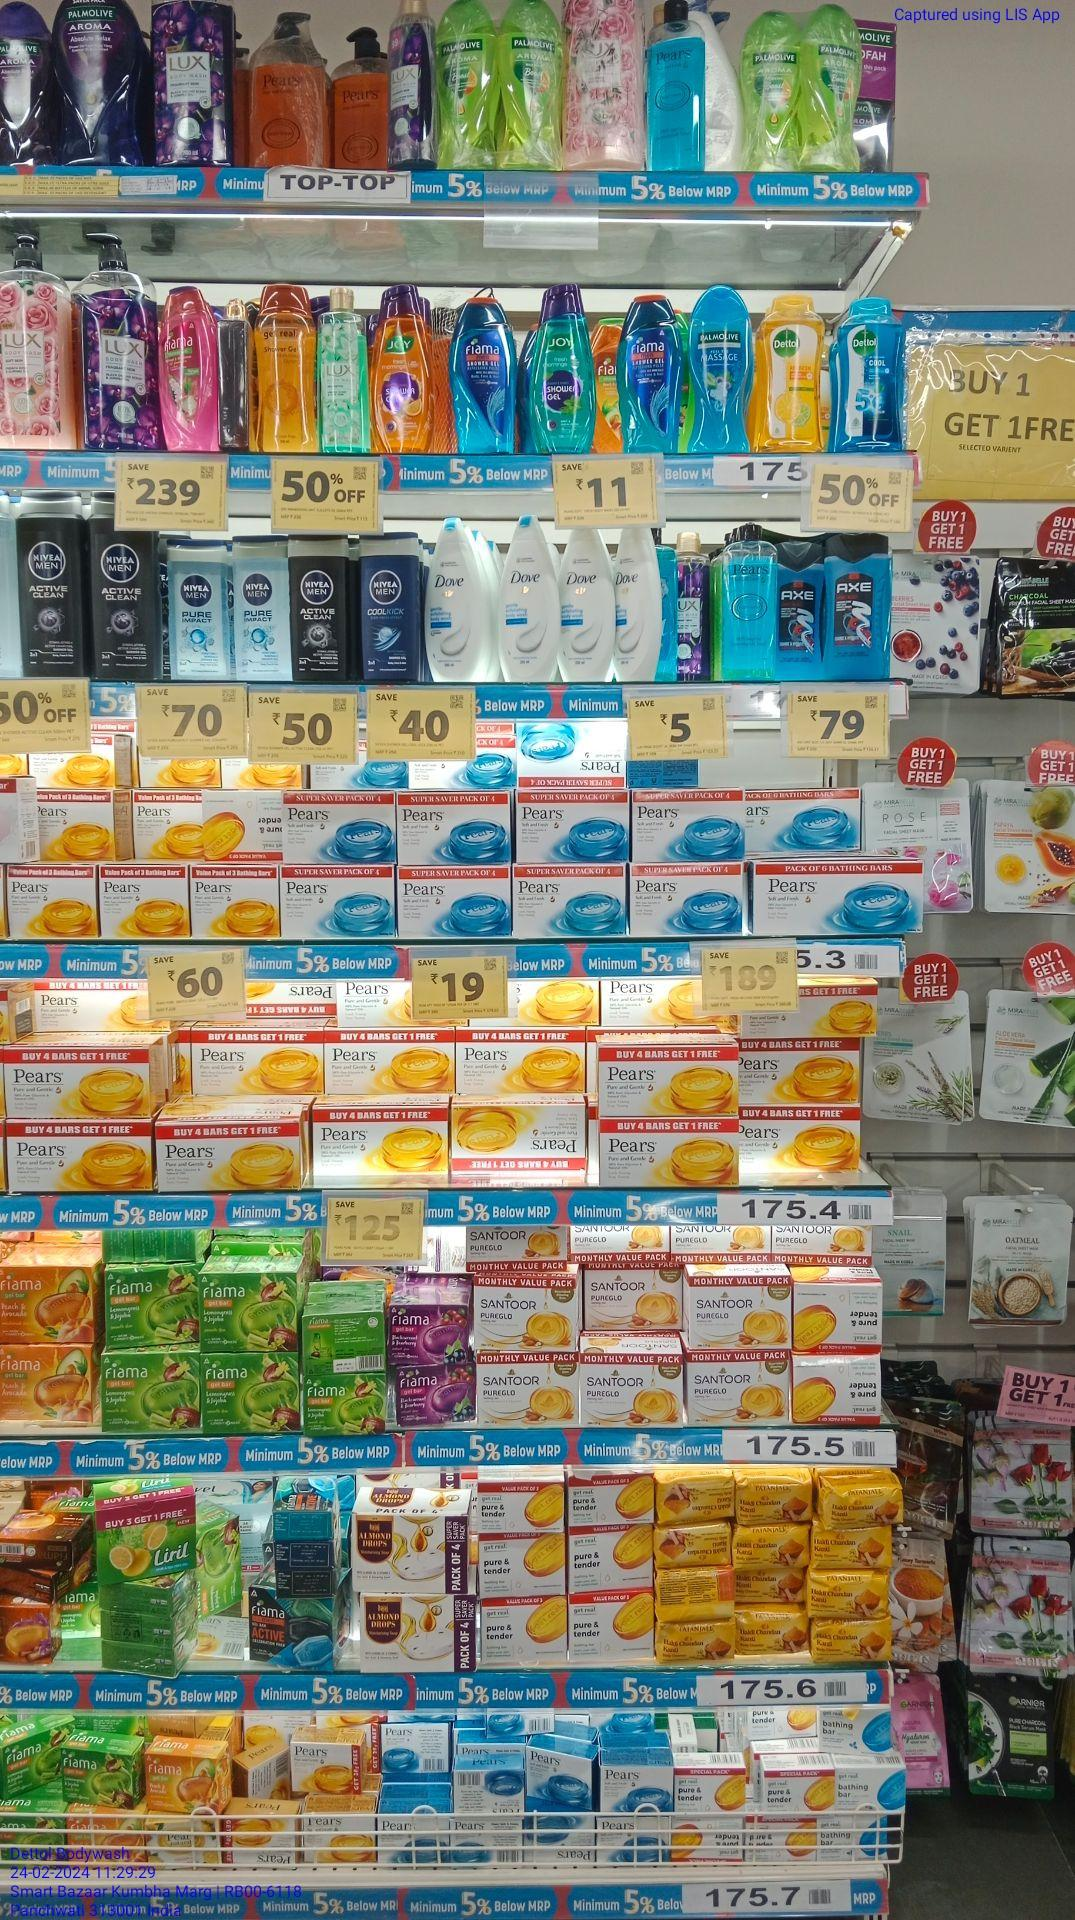Dettol_Bodywash_Cool: (832, 299, 902, 450)
Dettol_Bodywash_Refresh: (754, 301, 824, 452)
Dove_Gentle_Exfoliating_Body_Wash_250ML: (425, 518, 489, 684), (496, 521, 559, 682), (562, 521, 616, 680)
Fiama_Shower_Gel_Patchouli_and_Macadamia_250ML: (157, 289, 220, 455)
Get_Real_Shower_Gel_Moisturising_Glycerin_300ML: (256, 286, 319, 455)
Joy_Shower_Gel_Mandarin_and_Lemongrass_250ML: (377, 287, 434, 452)
Joy_Shower_Gel_Mint_and_Eucalyptus_250ML: (532, 287, 596, 454)
Lux_Black_Orchid_Scent_and_Juniper_Oil_Body_Wash_245ML: (681, 534, 708, 679)
Lux_Body_Wash_Skin_Detox_Freesia_Scent_and_Alove_Vera_245ML: (321, 289, 371, 455)
Palmolive_Aroma_Moments_Feel_The_Massage_Shower_Gel_250ML: (687, 284, 752, 451)
Pears_Pure_Glycerin_and_Mint_Extracts_Body_Wash_250ML: (725, 525, 778, 683)
